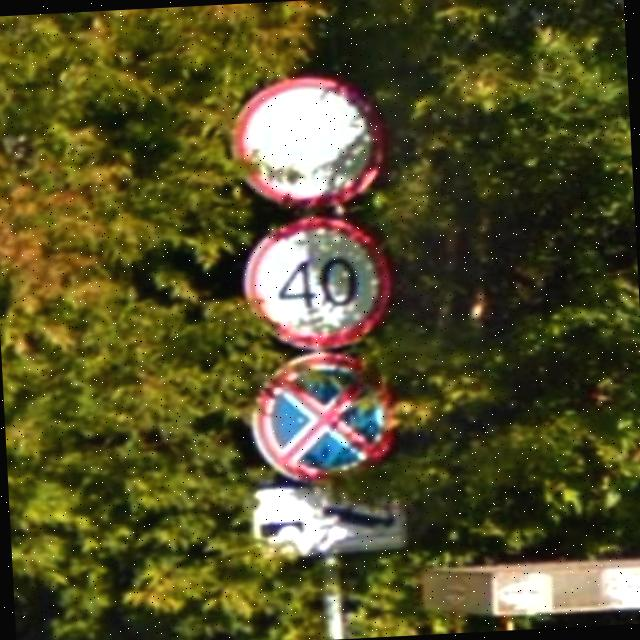Ograniczenie predkosci do 40: (240, 212, 396, 354)
Zakaz zatrzymywania sie: (248, 344, 399, 490)
